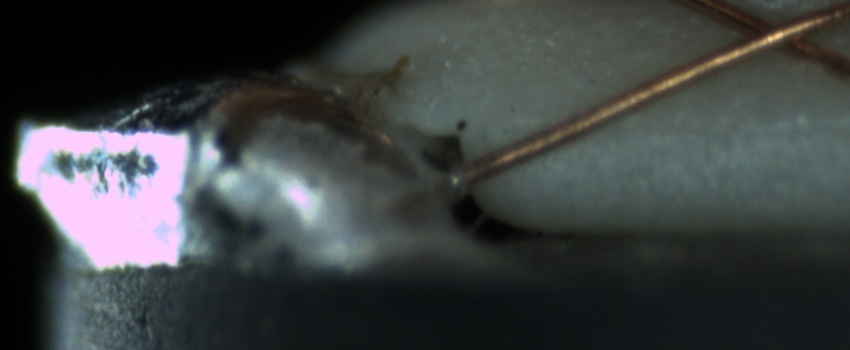CL: (707, 1, 838, 64)
DL: (538, 100, 850, 156)
